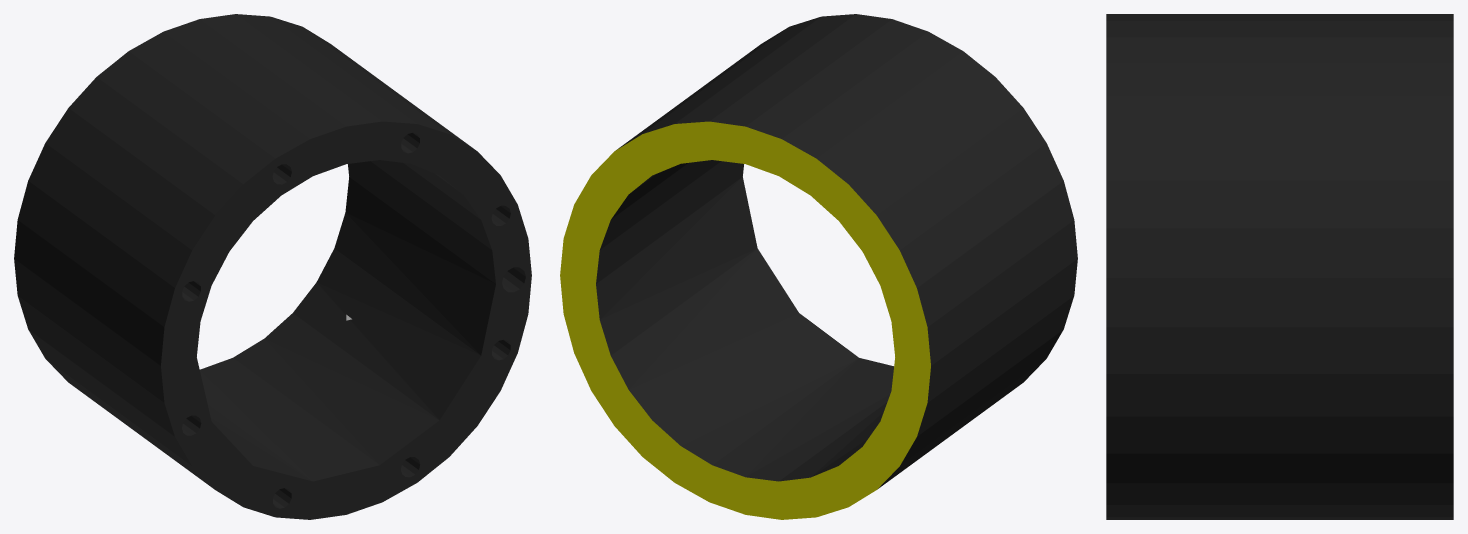
3 views of the same model, side by side, from view 1: azimuth 30°, elevation 25°; view 2: azimuth 150°, elevation 25°; view 3: azimuth 270°, elevation 25° (orthographic). The views are drawn at different scales.
Parts seen in each view (by area): view 1: node; view 2: node; view 3: node.
Boxes of the visible parts, bbox=[...] form: node: bbox=[14, 14, 531, 519]; node: bbox=[560, 14, 1077, 519]; node: bbox=[1106, 14, 1453, 519].
Bounding box in the file's own units: 62 × 62 × 42.5.
